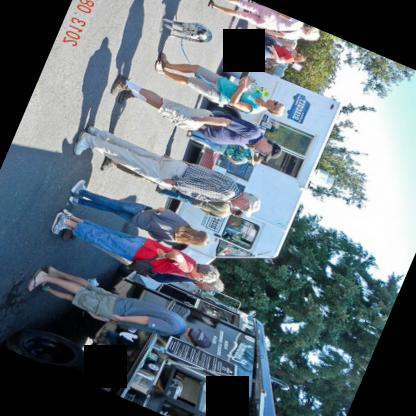handbag: (126, 254, 157, 275), (262, 32, 277, 45), (277, 26, 302, 31)
